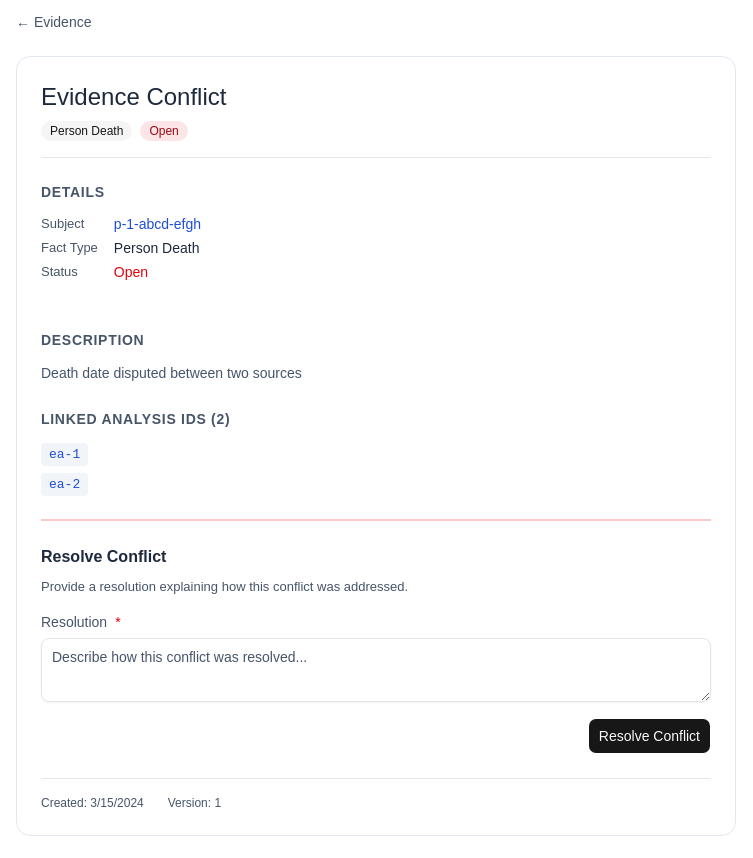
Test: Conflict Detail Page - save conflict (#939) › compares the resolution with the latest version and keeps it in the form
Type "The newspaper is wrong." into the text box named "Resolution text" at (376, 670), box [41,638,711,702]
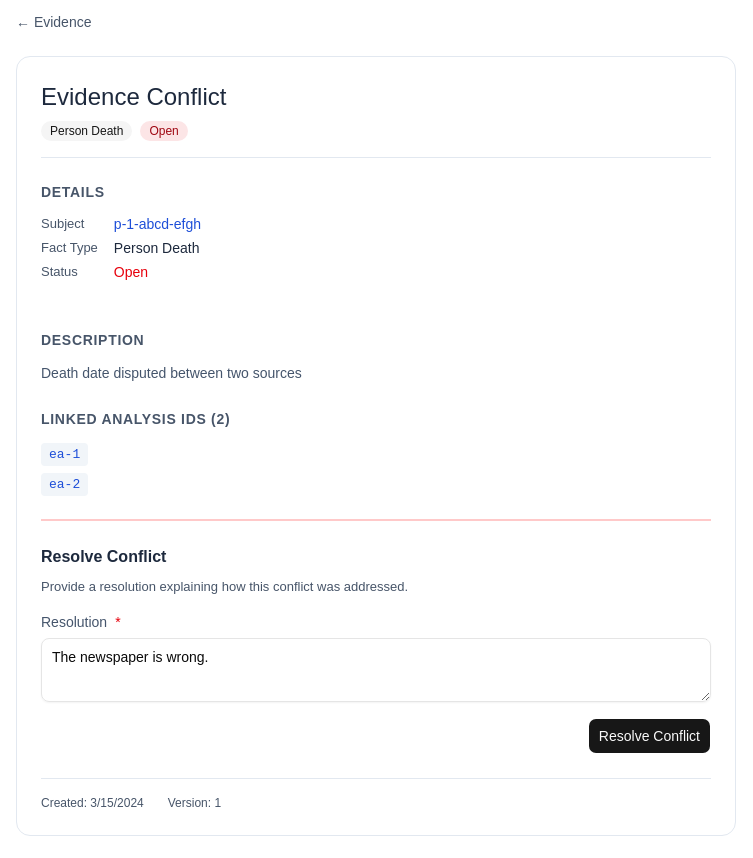
Click the button "Resolve Conflict" at (649, 736), box [588,718,711,754]
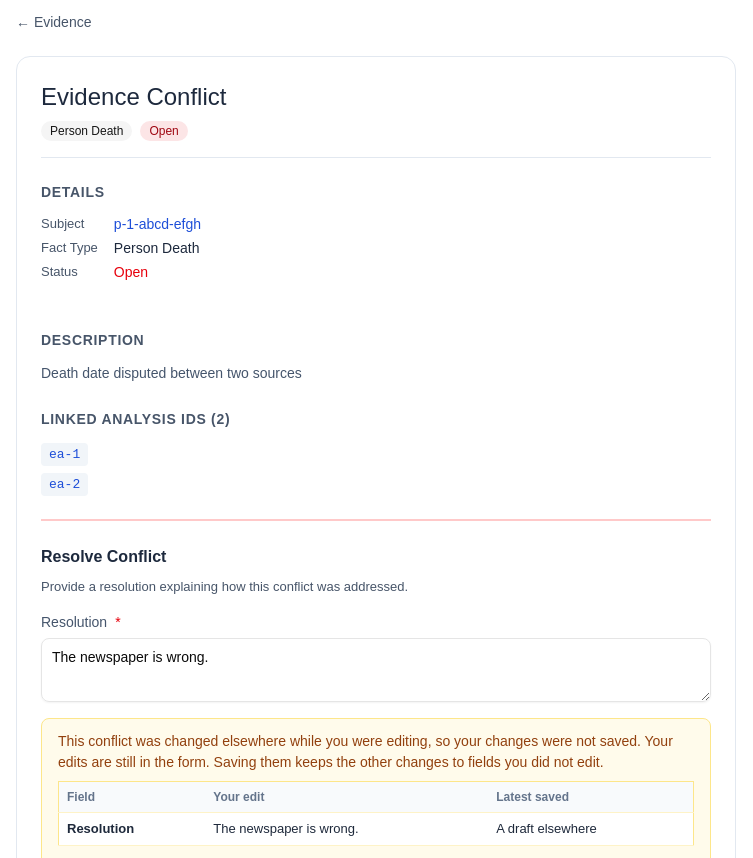
Check: the column heading "Resolution" is shown, box [58,813,205,845]
Check: the cell with test id "mine" reads "The newspaper is wrong.", box [213,821,359,836]
Check: the cell with test id "latest" reads "A draft elsewhere", box [496,821,597,836]
